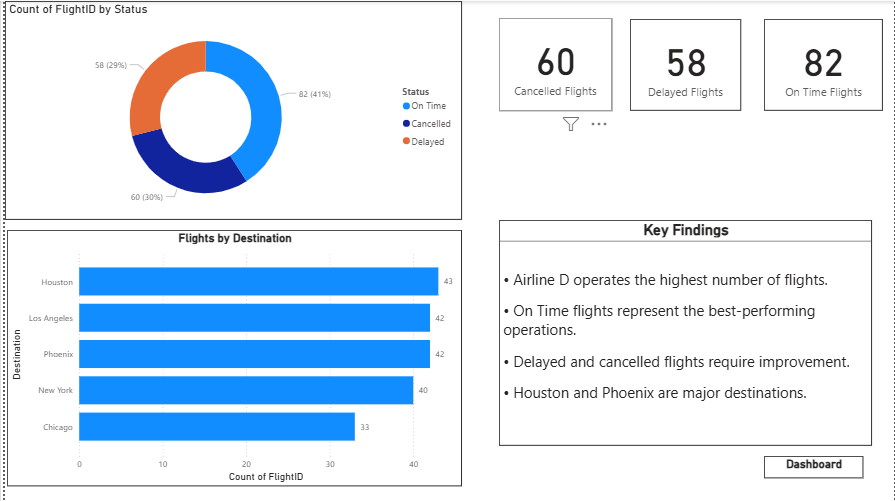

What the dashboard file says about the page in this screenshot:
{"tool":"powerbi","page":{"name":"Flight Performance Analysis","canvas":[1280,720],"ordinal":1},"visuals":[{"type":"donutChart","fields":{"Category":["flight_information.Status"],"Y":["CountNonNull(flight_information.FlightID)"]},"box":[0,0,658.1,315.4],"z":0},{"type":"barChart","title":"Flights by Destination","fields":{"Category":["flight_information.Destination"],"Y":["CountNonNull(flight_information.FlightID)"]},"box":[2.9,329.8,655.2,368.6],"z":1000},{"type":"textbox","title":"Key Findings","box":[711.4,315.4,537.1,325.4],"z":2000},{"type":"actionButton","title":"Dashboard","box":[1093,655.2,142.6,31.7],"z":3000},{"type":"card","fields":{"Values":["flight_information.Cancelled Flights"]},"box":[711.4,24.5,162.7,133.9],"z":3001},{"type":"card","fields":{"Values":["flight_information.Delayed Flights"]},"box":[900,25.9,159.8,132.5],"z":3002},{"type":"card","fields":{"Values":["flight_information.On Time Flights"]},"box":[1093,25.9,171.4,132.5],"z":3003}]}

Visuals, with their boxes in screenshot pixels (x1, y1, x2, y2), scaled from the page's 1280x720 canvas onto the 895x501 screenshot:
donutChart - flight_information.Status x CountNonNull(flight_information.FlightID): locate(0, 0, 460, 219)
"Flights by Destination" barChart: locate(2, 229, 460, 486)
"Key Findings" textbox: locate(497, 219, 873, 446)
"Dashboard" actionButton: locate(764, 456, 864, 478)
card - flight_information.Cancelled Flights: locate(497, 17, 611, 110)
card - flight_information.Delayed Flights: locate(629, 18, 741, 110)
card - flight_information.On Time Flights: locate(764, 18, 884, 110)
